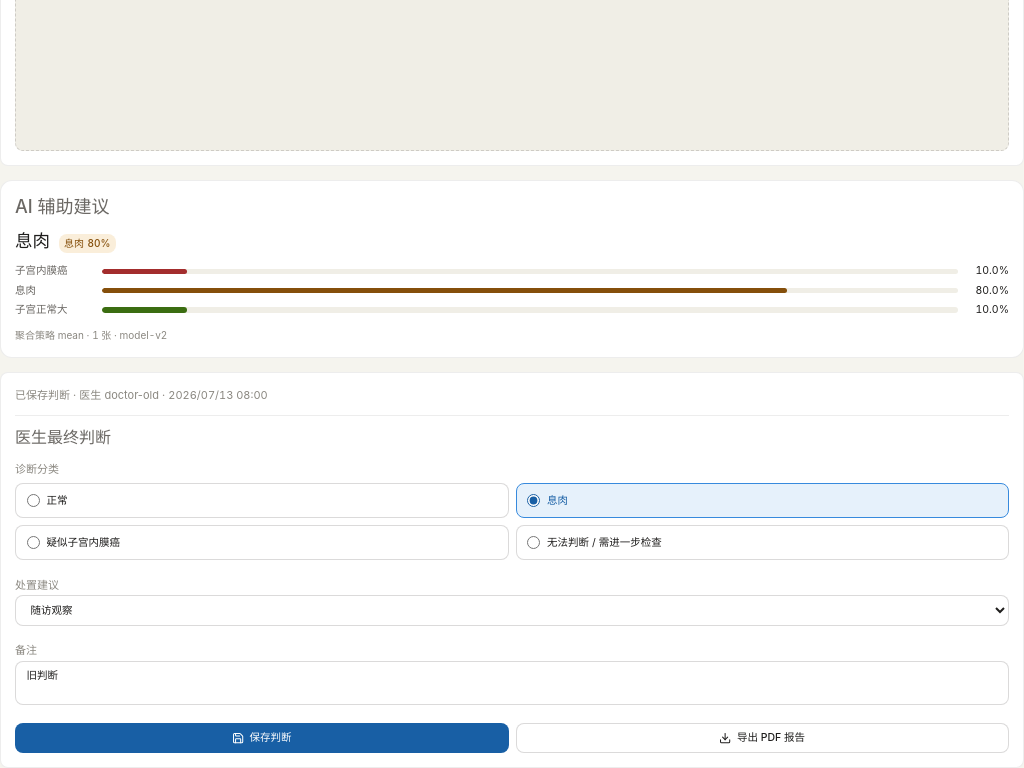
Scenario: CaseDetail diagnosis eligibility › keeps the form disabled until the saved judgment version has refreshed
The image size is (1024, 768).
(page scrolled)
Check: the button "保存判断" is shown, box [15,723,508,753]
Click the radio button labelled "正常": coordinates (33, 501) [26,494,40,507]
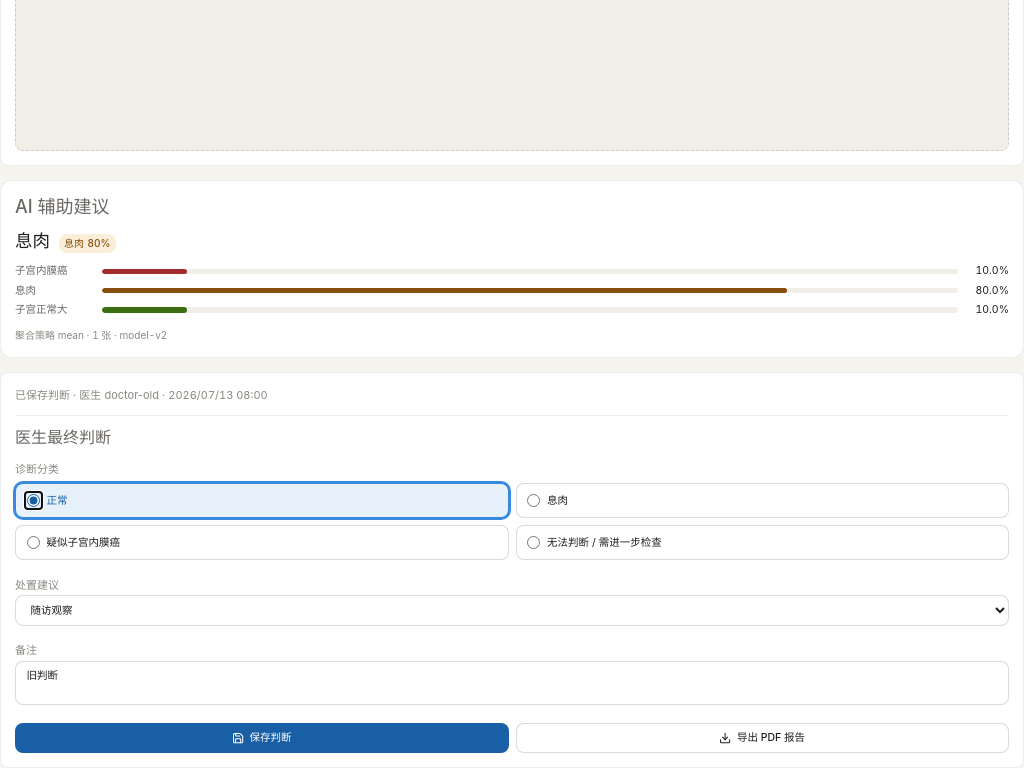
Click the button "保存判断": coordinates (262, 738) [15,723,508,753]
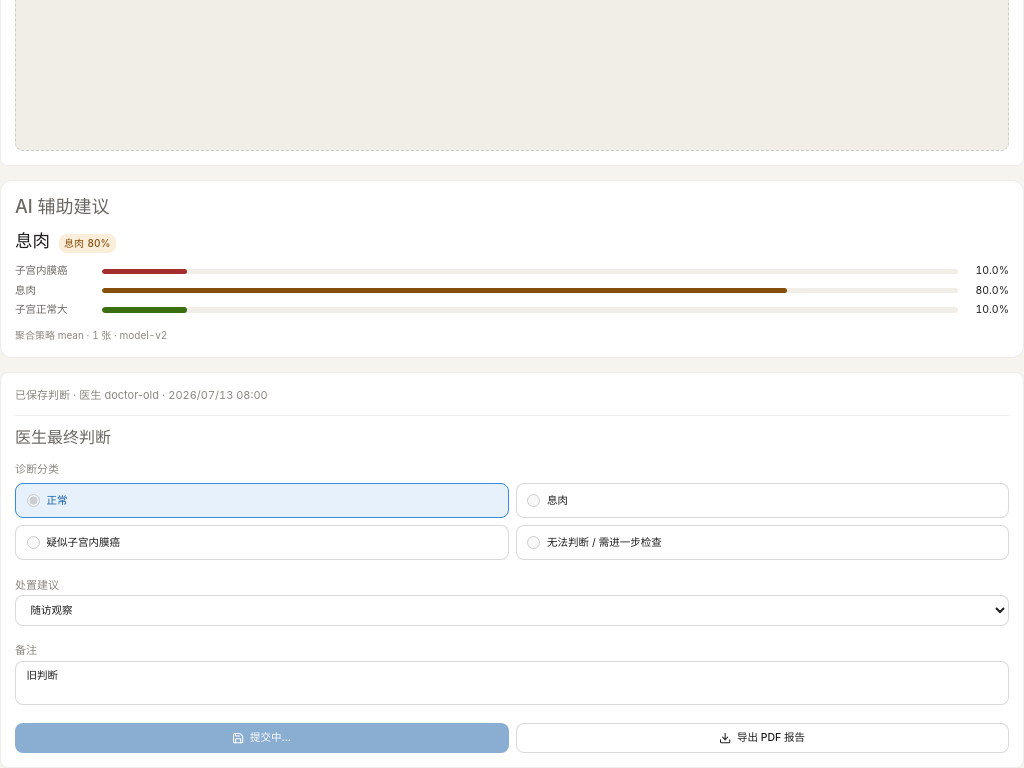
Check: the button "提交中..." is disabled, box [15,723,508,753]
Check: the radio button labelled "息肉" is disabled
Click the radio button labelled "息肉": coordinates (534, 501) [527,494,540,507]
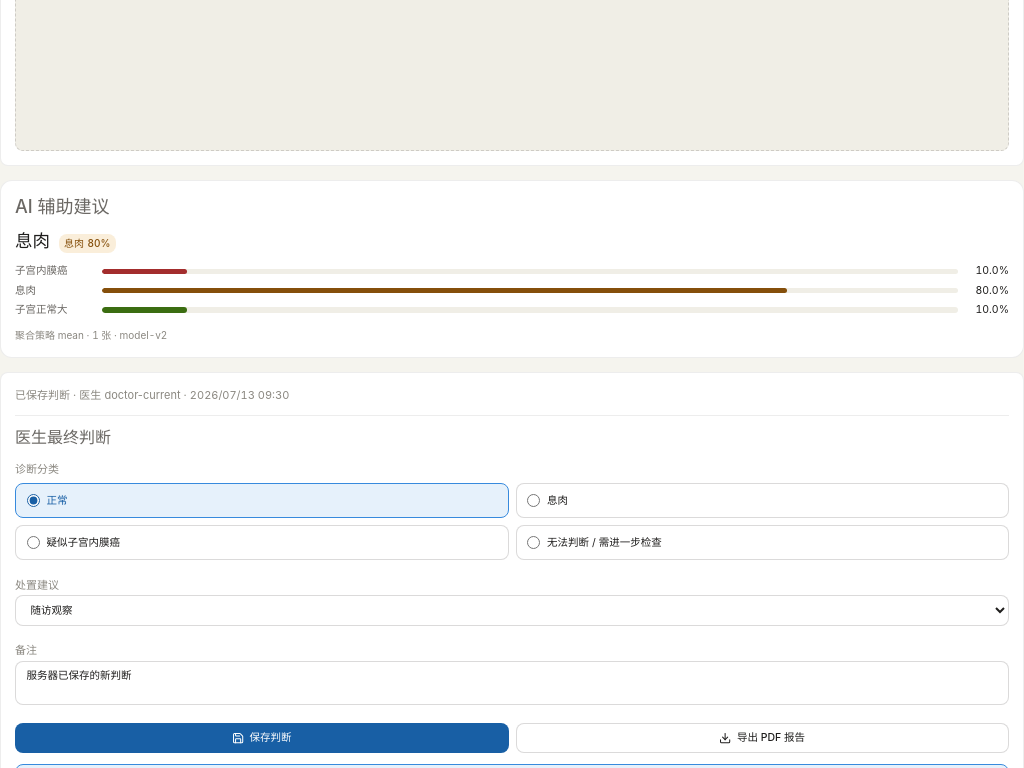
Check: the radio button labelled "正常" is checked, box [26,494,40,507]
Check: the text box labelled "备注" holds "服务器已保存的新判断", box [15,661,1009,705]
Check: the button "保存判断" is enabled, box [15,723,508,753]
